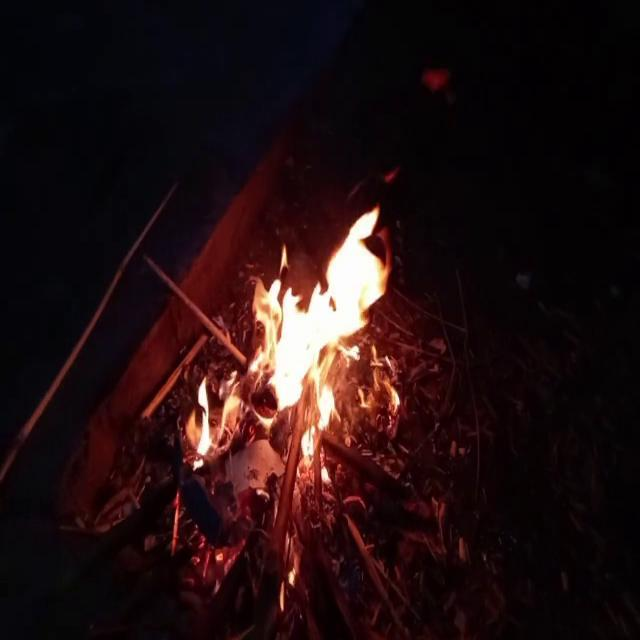Fire: (190, 191, 399, 488)
